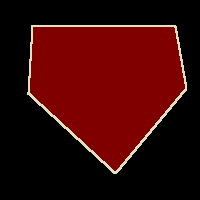tie: (28, 26, 186, 173)
